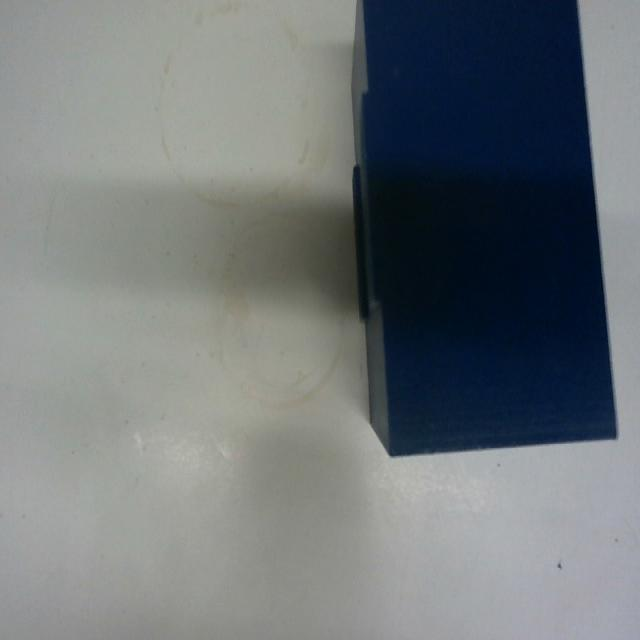Blue Cuboid: (347, 0, 619, 459)
